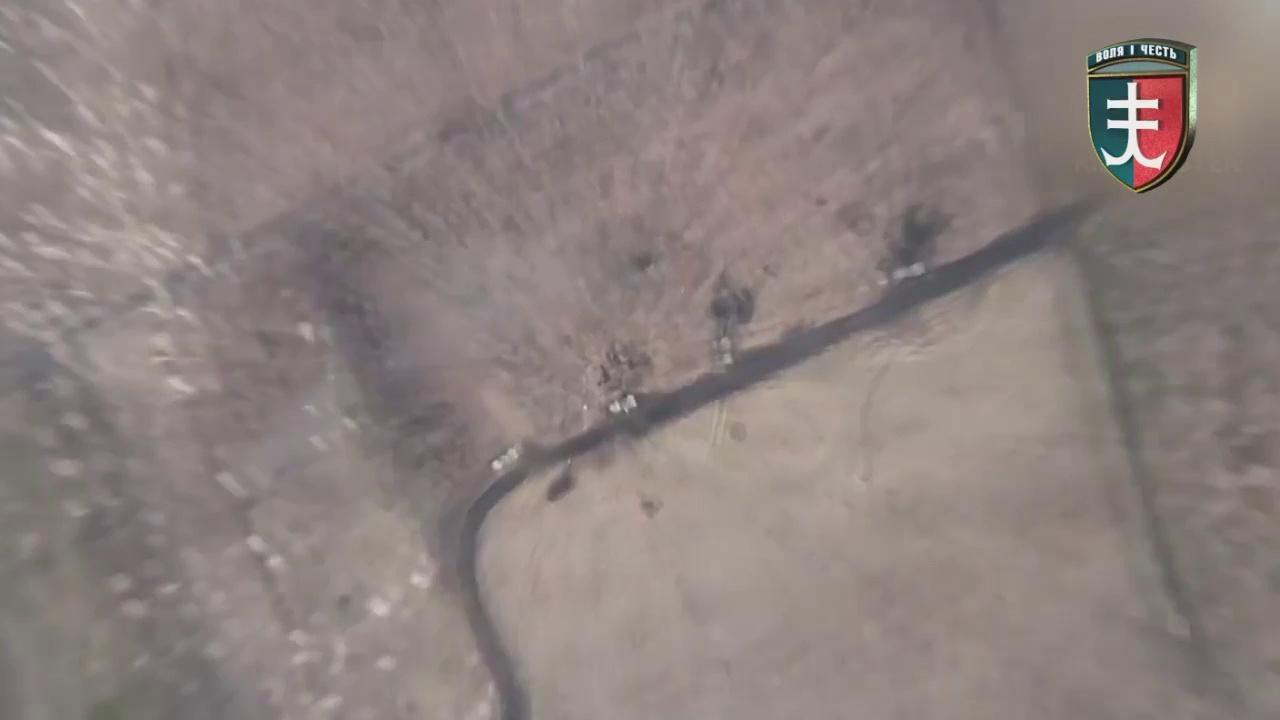vehicle: (486, 440, 524, 474), (606, 392, 636, 416), (891, 262, 926, 282), (712, 336, 734, 363)
